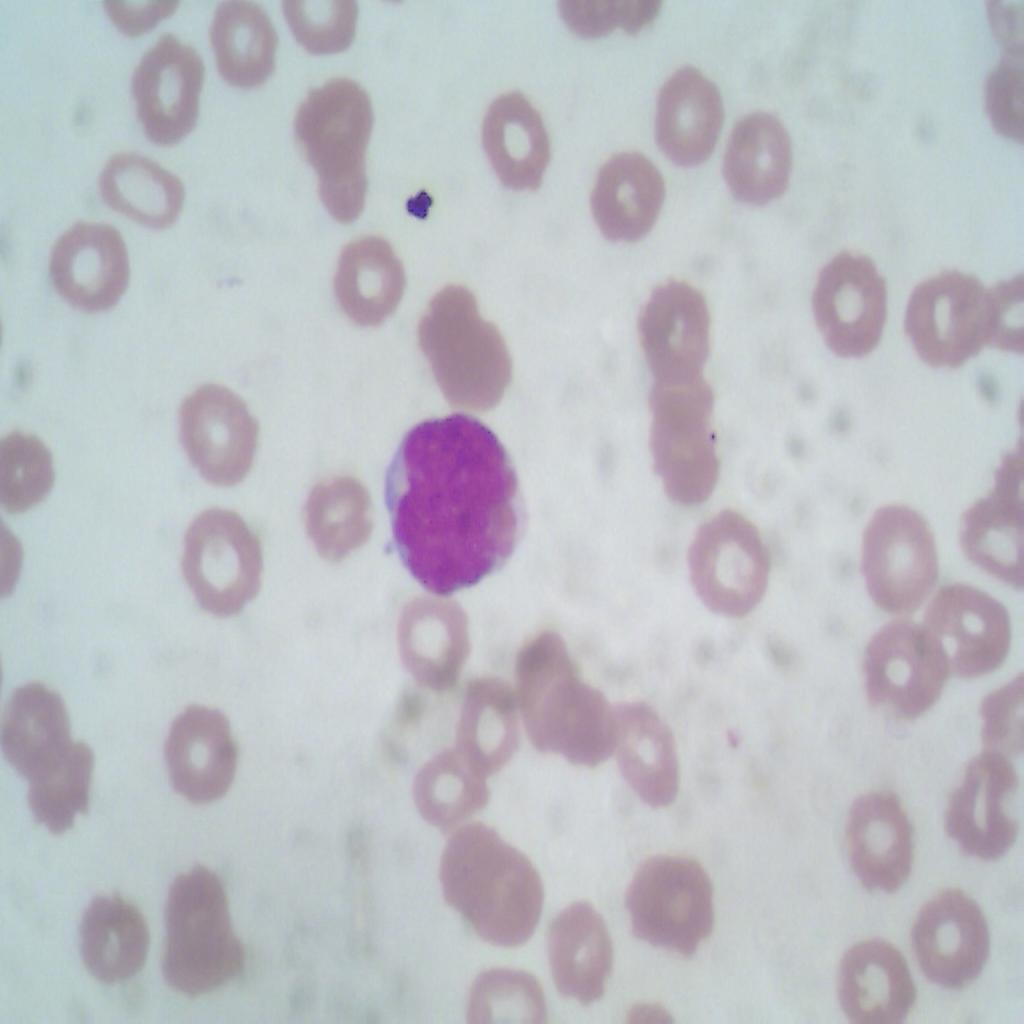Eritrosit: (173, 365, 269, 504), (161, 858, 251, 1004), (858, 492, 946, 618), (904, 258, 991, 385), (604, 704, 699, 820), (121, 28, 208, 154), (632, 268, 718, 394), (834, 767, 919, 894), (178, 506, 268, 618), (686, 515, 778, 624), (924, 581, 1018, 685), (854, 621, 950, 721), (938, 742, 1024, 852), (466, 84, 556, 189), (648, 58, 723, 184), (38, 219, 133, 318), (721, 109, 809, 215), (910, 882, 992, 994), (323, 219, 409, 325), (809, 248, 895, 354), (629, 858, 723, 954), (90, 147, 188, 238), (28, 728, 106, 842), (195, 0, 286, 97), (391, 586, 475, 691), (516, 634, 590, 752), (584, 148, 670, 249), (446, 675, 523, 787), (470, 847, 549, 954), (69, 882, 151, 985), (296, 467, 373, 575), (403, 749, 495, 838), (646, 420, 733, 512), (546, 897, 622, 1002), (946, 473, 1024, 574), (412, 275, 486, 381), (838, 931, 920, 1023), (290, 72, 373, 162), (164, 696, 241, 792), (440, 324, 518, 409), (454, 951, 546, 1023), (436, 828, 506, 915), (4, 684, 69, 775), (644, 367, 724, 437), (553, 680, 618, 765), (318, 141, 373, 222)
Limfoblast: (382, 406, 535, 598)
Platelet: (401, 185, 435, 227)
